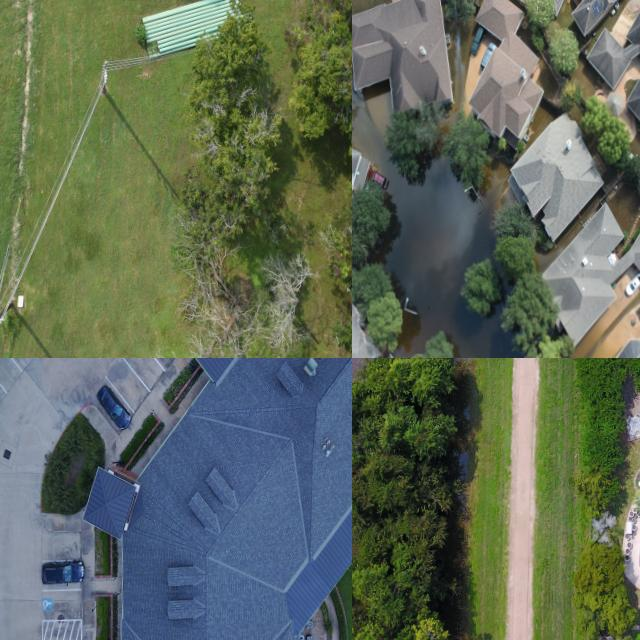fire: (372, 149, 521, 358)
